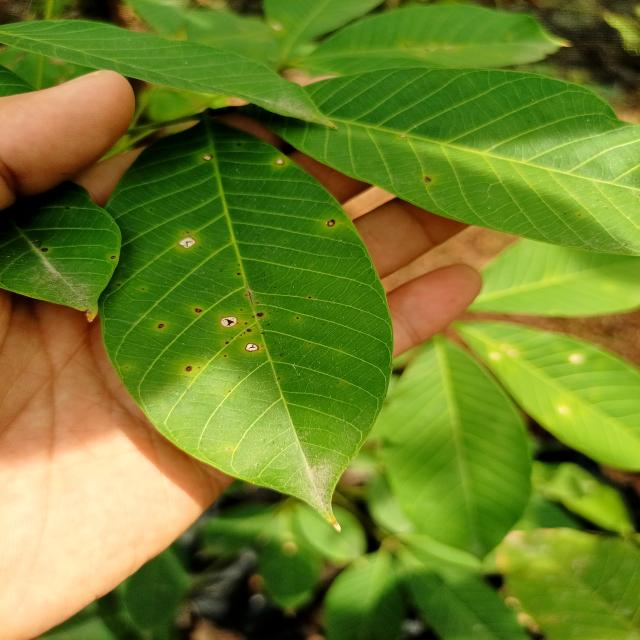Colletotrichum: (221, 316, 238, 327), (245, 342, 259, 352), (327, 219, 335, 227), (202, 155, 212, 161), (276, 159, 284, 165), (195, 308, 203, 313), (186, 366, 192, 372), (425, 177, 431, 183), (256, 312, 264, 316), (158, 324, 165, 328), (41, 248, 48, 252), (247, 329, 252, 332), (225, 341, 229, 344), (111, 256, 115, 259), (237, 273, 241, 275), (308, 296, 312, 298), (296, 317, 299, 319), (245, 322, 248, 324)
